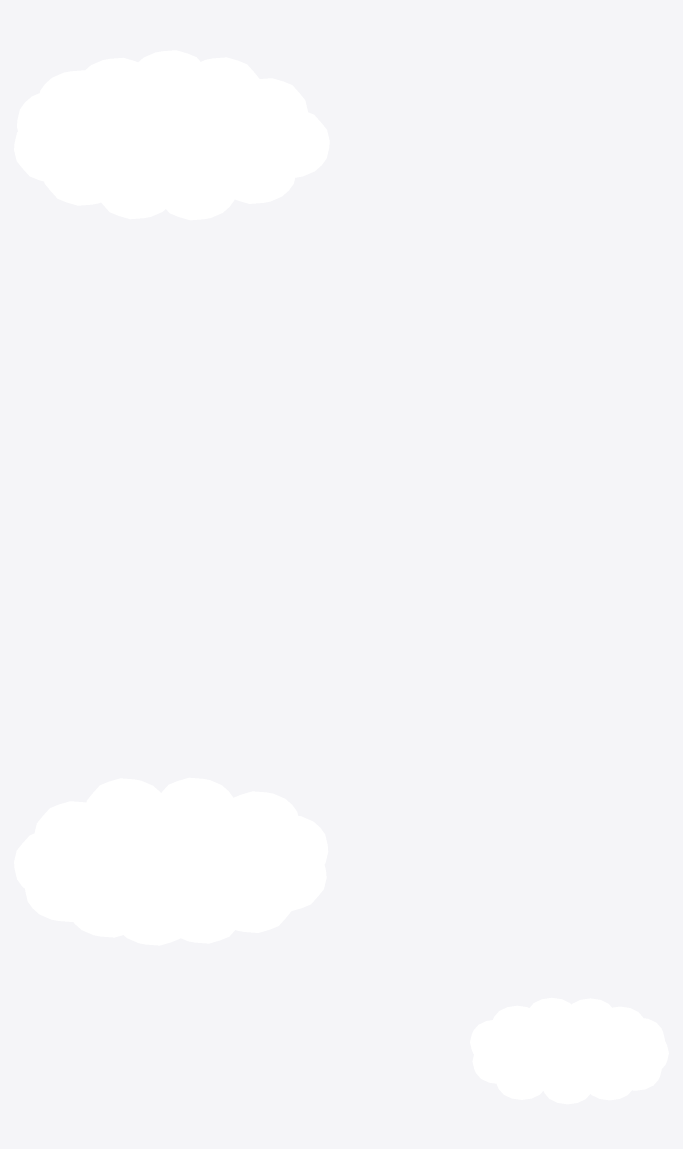
File: Burbujas2.fbx
3 renders of one model, top to bottom at view 1: azimuth 30°, elevation 25°; view 2: azimuth 150°, elevation 25°; view 3: azimuth 270°, elevation 25°, orthographic. The views are drawn at different scales.
Visible parts, largest first — view 1: Burbuja de javon.041; view 2: Burbuja de javon.041; view 3: Burbuja de javon.041.
Part boxes in pixels (left/top/right/bottom): Burbuja de javon.041: left=14, top=50, right=329, bottom=220; Burbuja de javon.041: left=14, top=777, right=328, bottom=945; Burbuja de javon.041: left=470, top=997, right=668, bottom=1104.
Size of the model in its own units: 2.14 by 1.71 by 7.08.
Materials: 4 (4 with a texture image).
